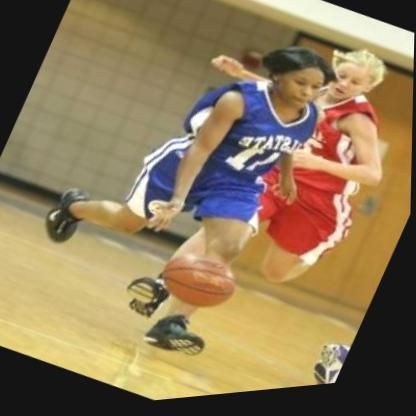basketball: (151, 237, 250, 330)
